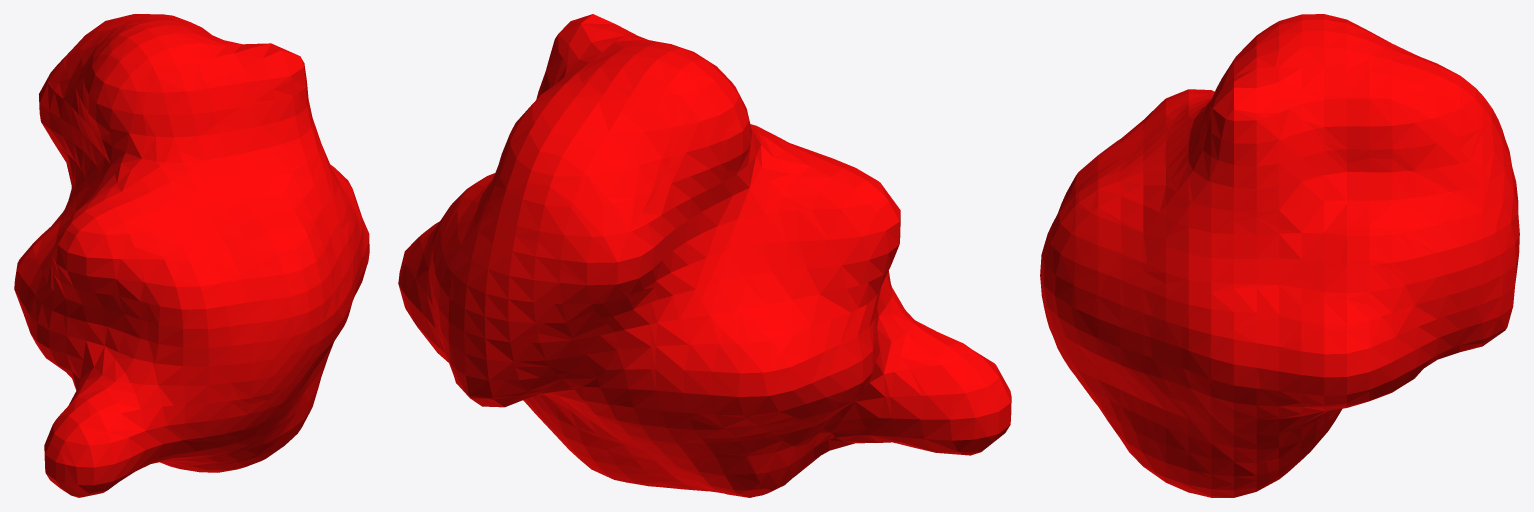
The model's file is nrdH_coarse.dae.
The picture shows the model from 3 angles, left to right: view 1: azimuth 30°, elevation 25°; view 2: azimuth 150°, elevation 25°; view 3: azimuth 270°, elevation 25°; orthographic projection. The views are drawn at different scales.
Parts seen in each view (by area): view 1: nrdH; view 2: nrdH; view 3: nrdH.
Part boxes in pixels (left/top/right/bottom): nrdH: left=14, top=14, right=369, bottom=497; nrdH: left=398, top=14, right=1011, bottom=497; nrdH: left=1040, top=14, right=1519, bottom=497.
Bounding box in the file's own units: 37.34 × 35.62 × 34.8.
